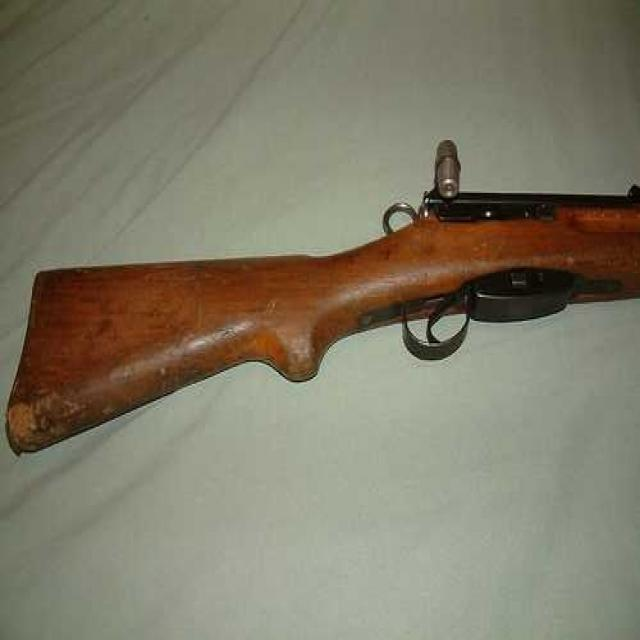weapon: (4, 126, 640, 466)
